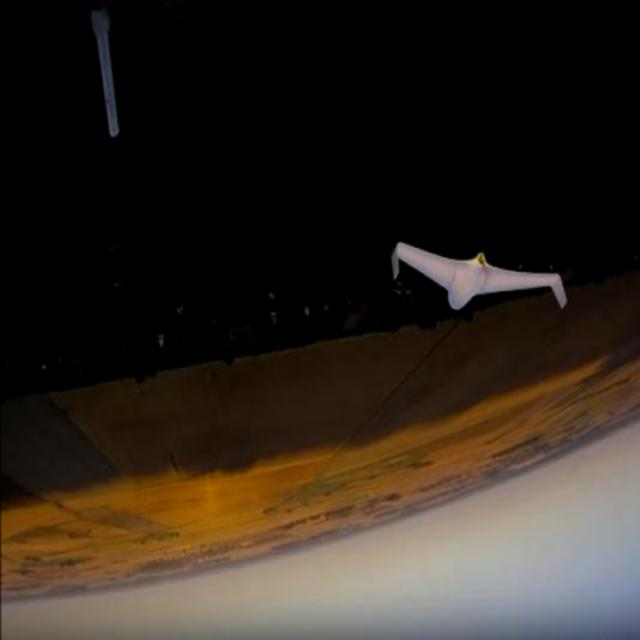plane: (388, 240, 570, 313)
